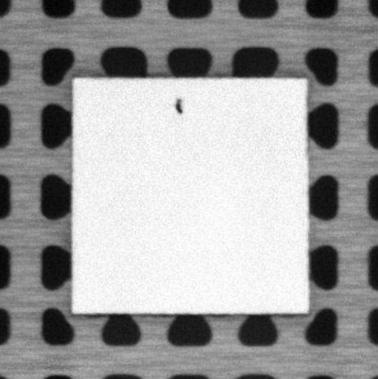DIE_INK: (173, 96, 184, 114)
